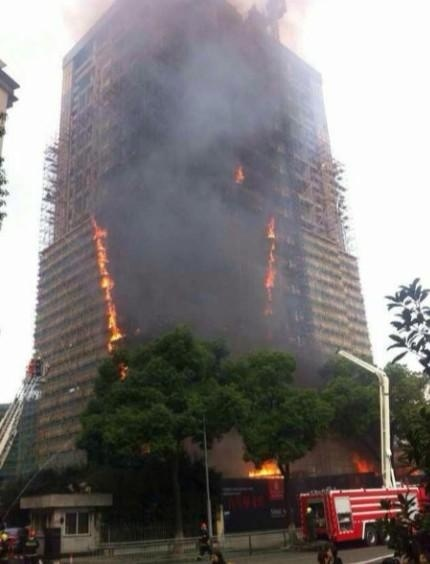fire: (87, 218, 121, 357), (260, 212, 282, 311), (246, 458, 281, 480), (352, 455, 376, 474), (232, 161, 247, 182)
